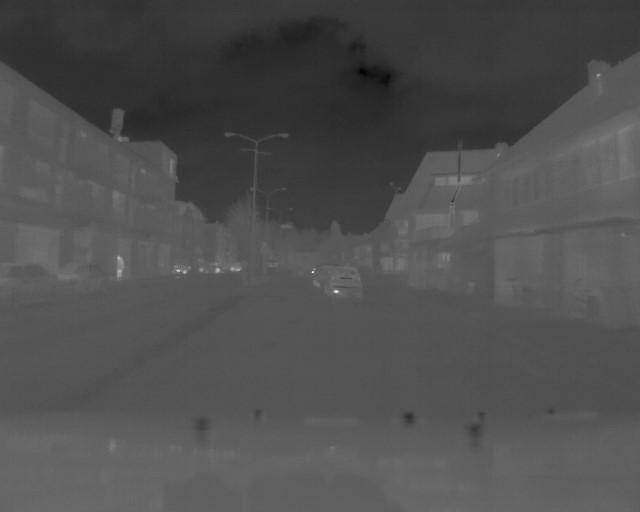car: (323, 265, 366, 302)
person: (115, 251, 126, 288)
